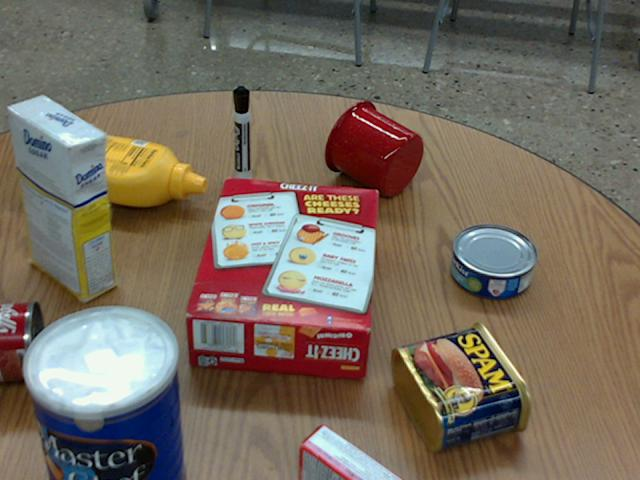cracker_box: (184, 179, 377, 376)
gelatin_box: (297, 423, 401, 479)
large_marker: (232, 86, 249, 183)
master_chef_can: (20, 304, 182, 479)
mug: (324, 100, 423, 196)
mustard_bottle: (23, 126, 205, 205)
potted_meat_can: (392, 322, 530, 452)
sugar_box: (8, 95, 112, 301)
tomato_soup_can: (0, 299, 43, 378)
tuna_fish_can: (450, 224, 536, 298)
